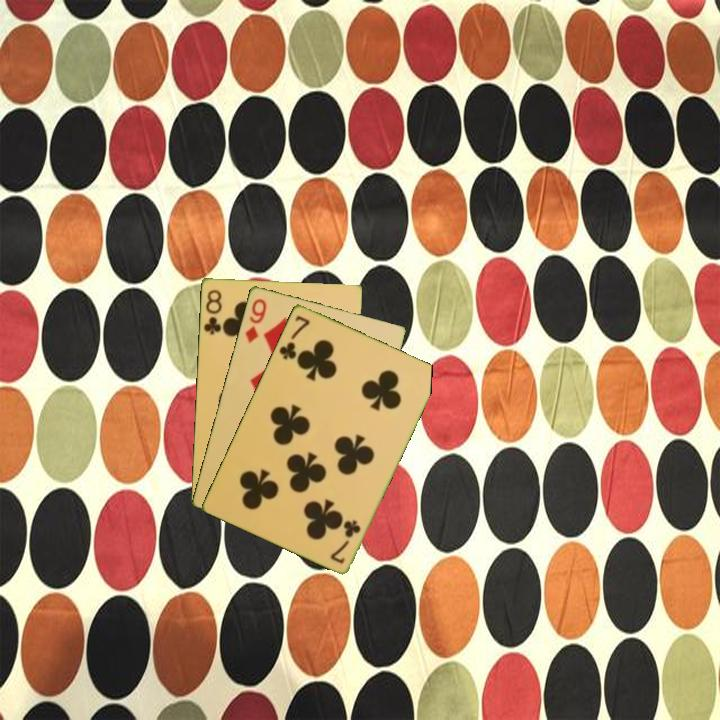7c: (326, 516, 363, 567), (275, 312, 312, 362)
8c: (200, 286, 224, 337)
9d: (241, 295, 269, 346)
